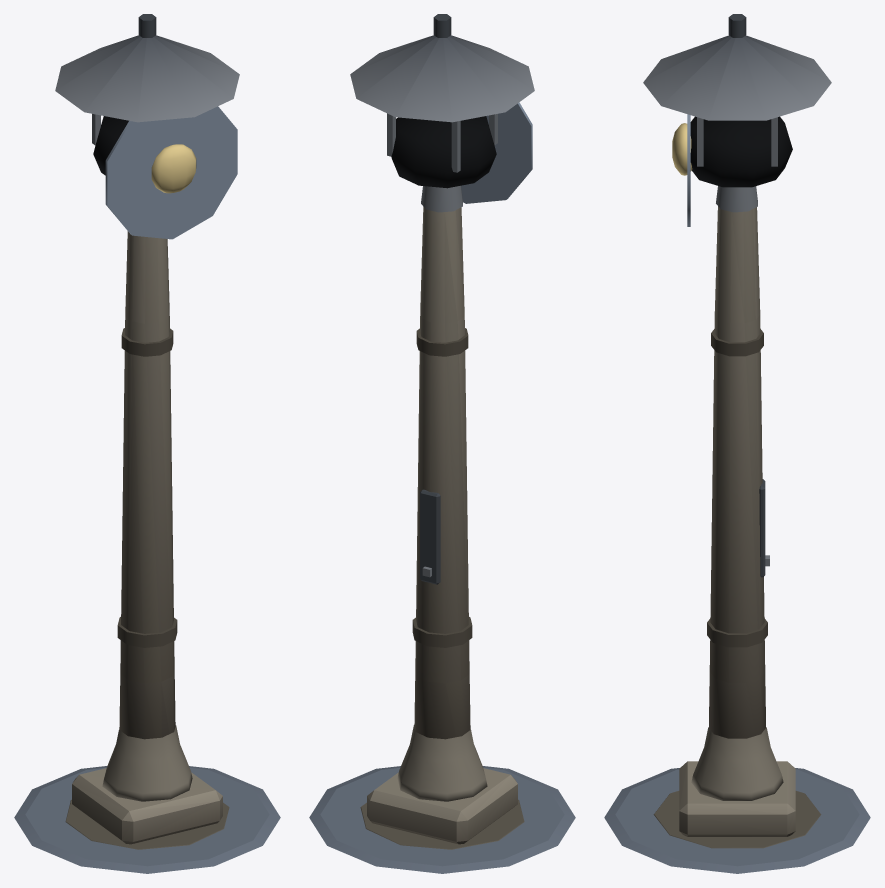
Rendered from lamp-post-modern.glb.
3 renders of one model, left to right at view 1: azimuth 30°, elevation 25°; view 2: azimuth 150°, elevation 25°; view 3: azimuth 270°, elevation 25°, orthographic.
Visible parts, largest first — view 1: lamp_post_modern; view 2: lamp_post_modern; view 3: lamp_post_modern.
Boxes of the visible parts, left/top/right/bottom form: lamp_post_modern: left=14, top=14, right=280, bottom=873; lamp_post_modern: left=309, top=14, right=575, bottom=873; lamp_post_modern: left=604, top=14, right=870, bottom=873.
Size of the model in its own units: 0.96 by 3.18 by 0.96.
